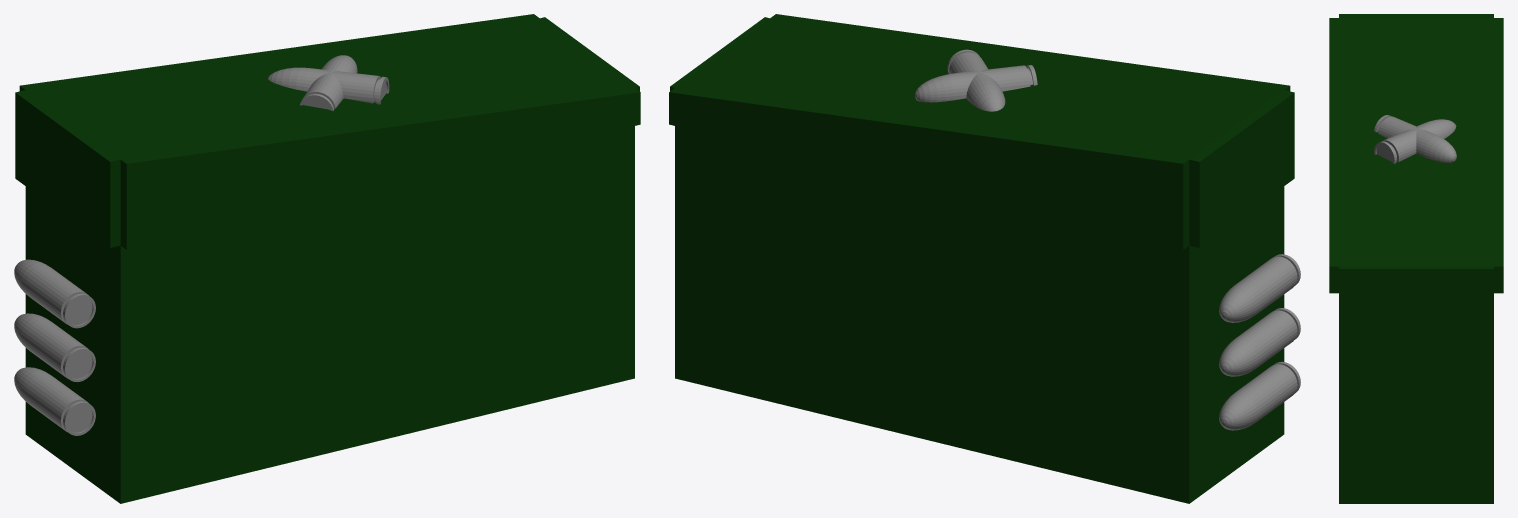
The model's file is ammocrate.glb.
3 views of the same model, side by side, from view 1: azimuth 30°, elevation 25°; view 2: azimuth 150°, elevation 25°; view 3: azimuth 270°, elevation 25° (orthographic). The views are drawn at different scales.
Visible parts, largest first — view 1: Cube, Sphere.003, Sphere.001, Sphere.002, Sphere.005, Sphere.004; view 2: Cube, Sphere.002, Sphere.003, Sphere.001, Sphere.004, Sphere.005; view 3: Cube, Sphere.004, Sphere.005.
Boxes of the visible parts, box(x1,y1,x2,y2) form: Cube: box(15, 14, 640, 503); Sphere.003: box(14, 259, 95, 328); Sphere.001: box(14, 313, 95, 382); Sphere.002: box(14, 367, 95, 435); Sphere.005: box(268, 67, 389, 104); Sphere.004: box(300, 55, 357, 110); Cube: box(669, 14, 1294, 503); Sphere.002: box(1219, 361, 1300, 430); Sphere.003: box(1219, 254, 1300, 322); Sphere.001: box(1219, 308, 1300, 376); Sphere.004: box(915, 65, 1037, 102); Sphere.005: box(947, 49, 1005, 111); Cube: box(1329, 14, 1503, 503); Sphere.004: box(1374, 115, 1456, 162); Sphere.005: box(1374, 119, 1456, 163).
Bounding box in the file's own units: 10.81 × 6.4 × 3.6.
